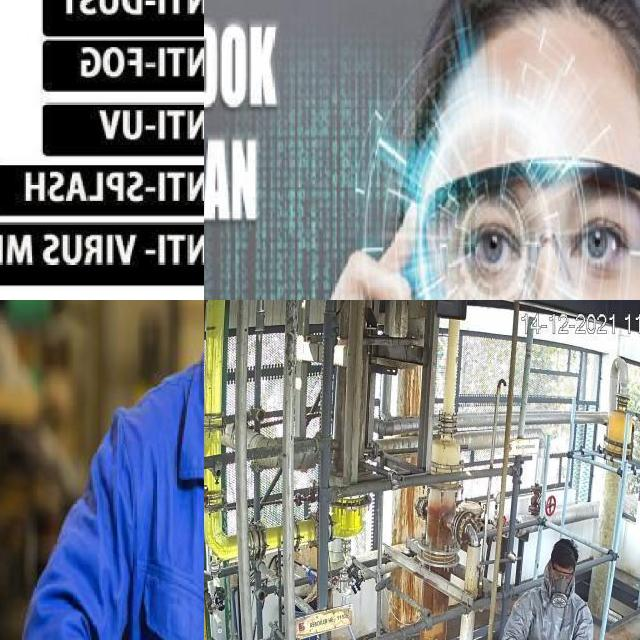face_mask: (550, 562, 577, 605)
face_nomask: (456, 206, 617, 300)
glasses: (419, 153, 640, 300)
hand_noglove: (274, 201, 431, 300)
head_nohelmet: (431, 0, 640, 98), (549, 537, 581, 567)
person: (22, 300, 204, 640), (485, 535, 592, 640)
